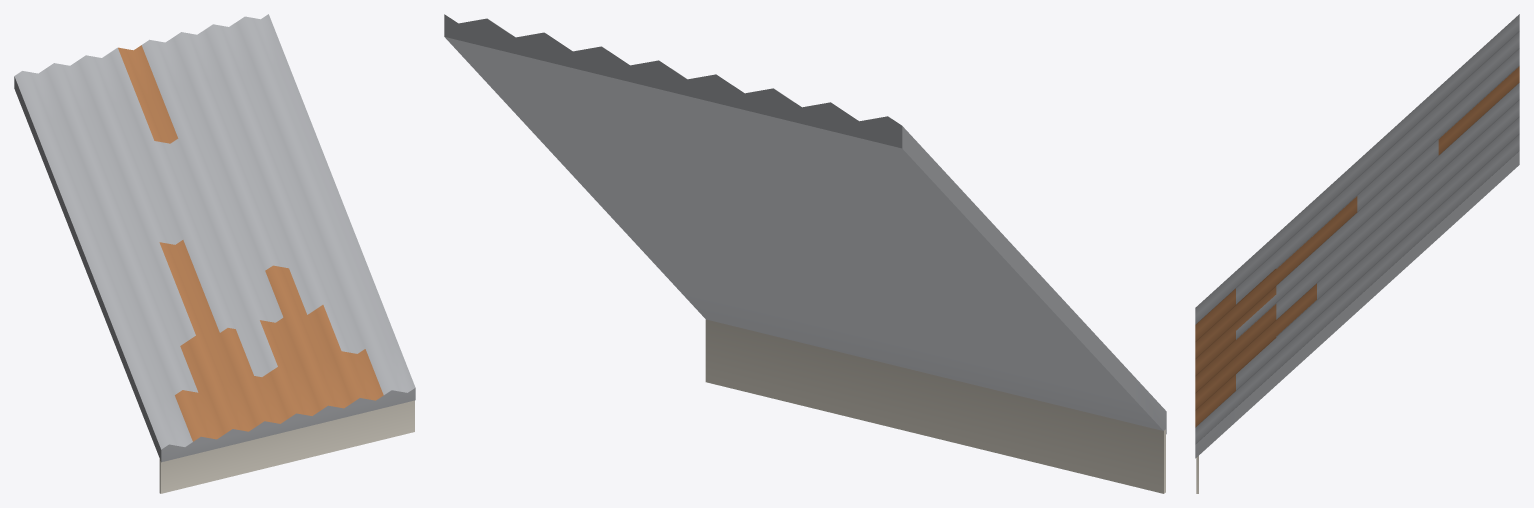
Rendered from roof_slope_rust.glb.
The picture shows the model from 3 angles, left to right: view 1: azimuth 30°, elevation 25°; view 2: azimuth 150°, elevation 25°; view 3: azimuth 270°, elevation 25°; orthographic projection. The views are drawn at different scales.
Visible parts, largest first — view 1: PART; view 2: PART; view 3: PART.
Boxes of the visible parts, box(x1,y1,x2,y2) form: PART: box(14, 14, 415, 493); PART: box(444, 14, 1166, 493); PART: box(1195, 14, 1519, 493).
Bounding box in the file's own units: 1 × 1.18 × 1.
